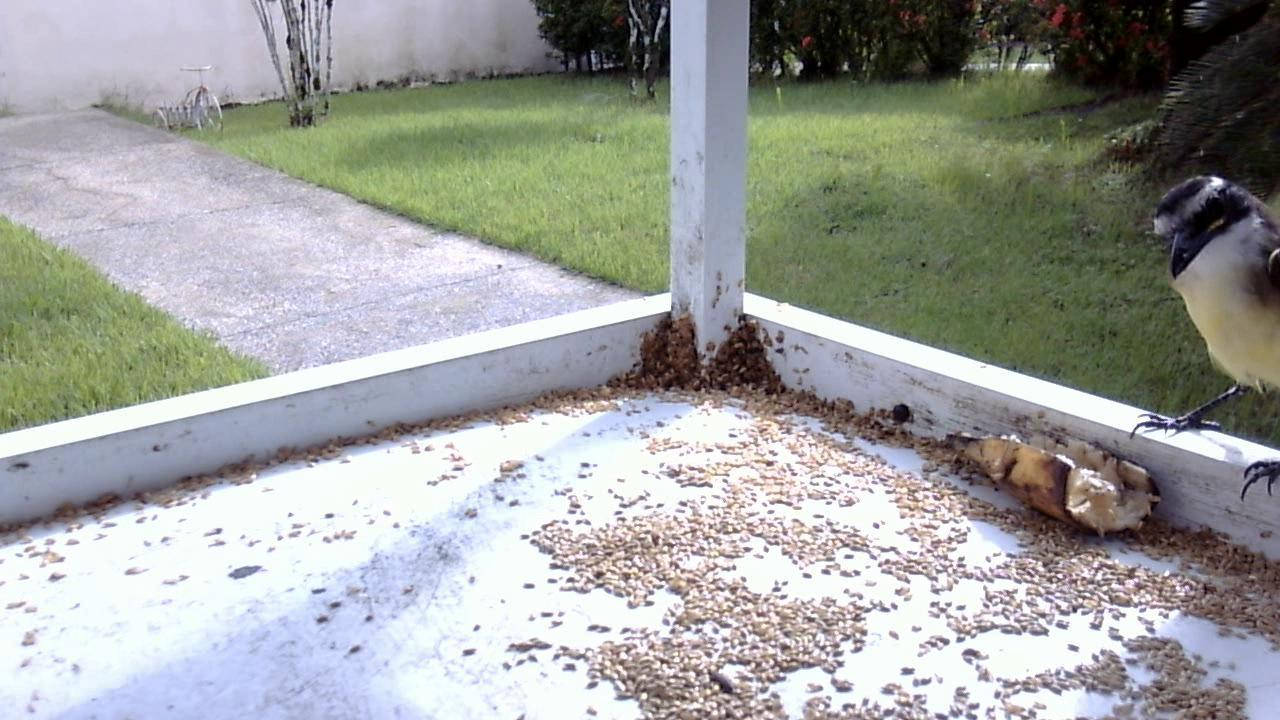bem_te_vi: (1119, 159, 1280, 515)
